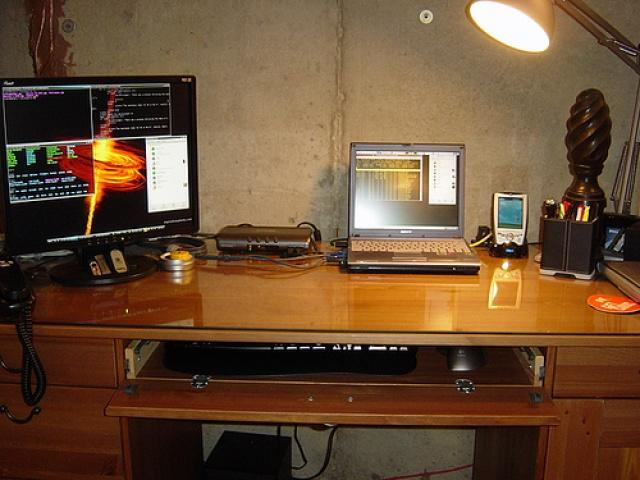AIO PC-Monitor-TV: (0, 72, 199, 259)
Meja: (0, 235, 639, 352)
